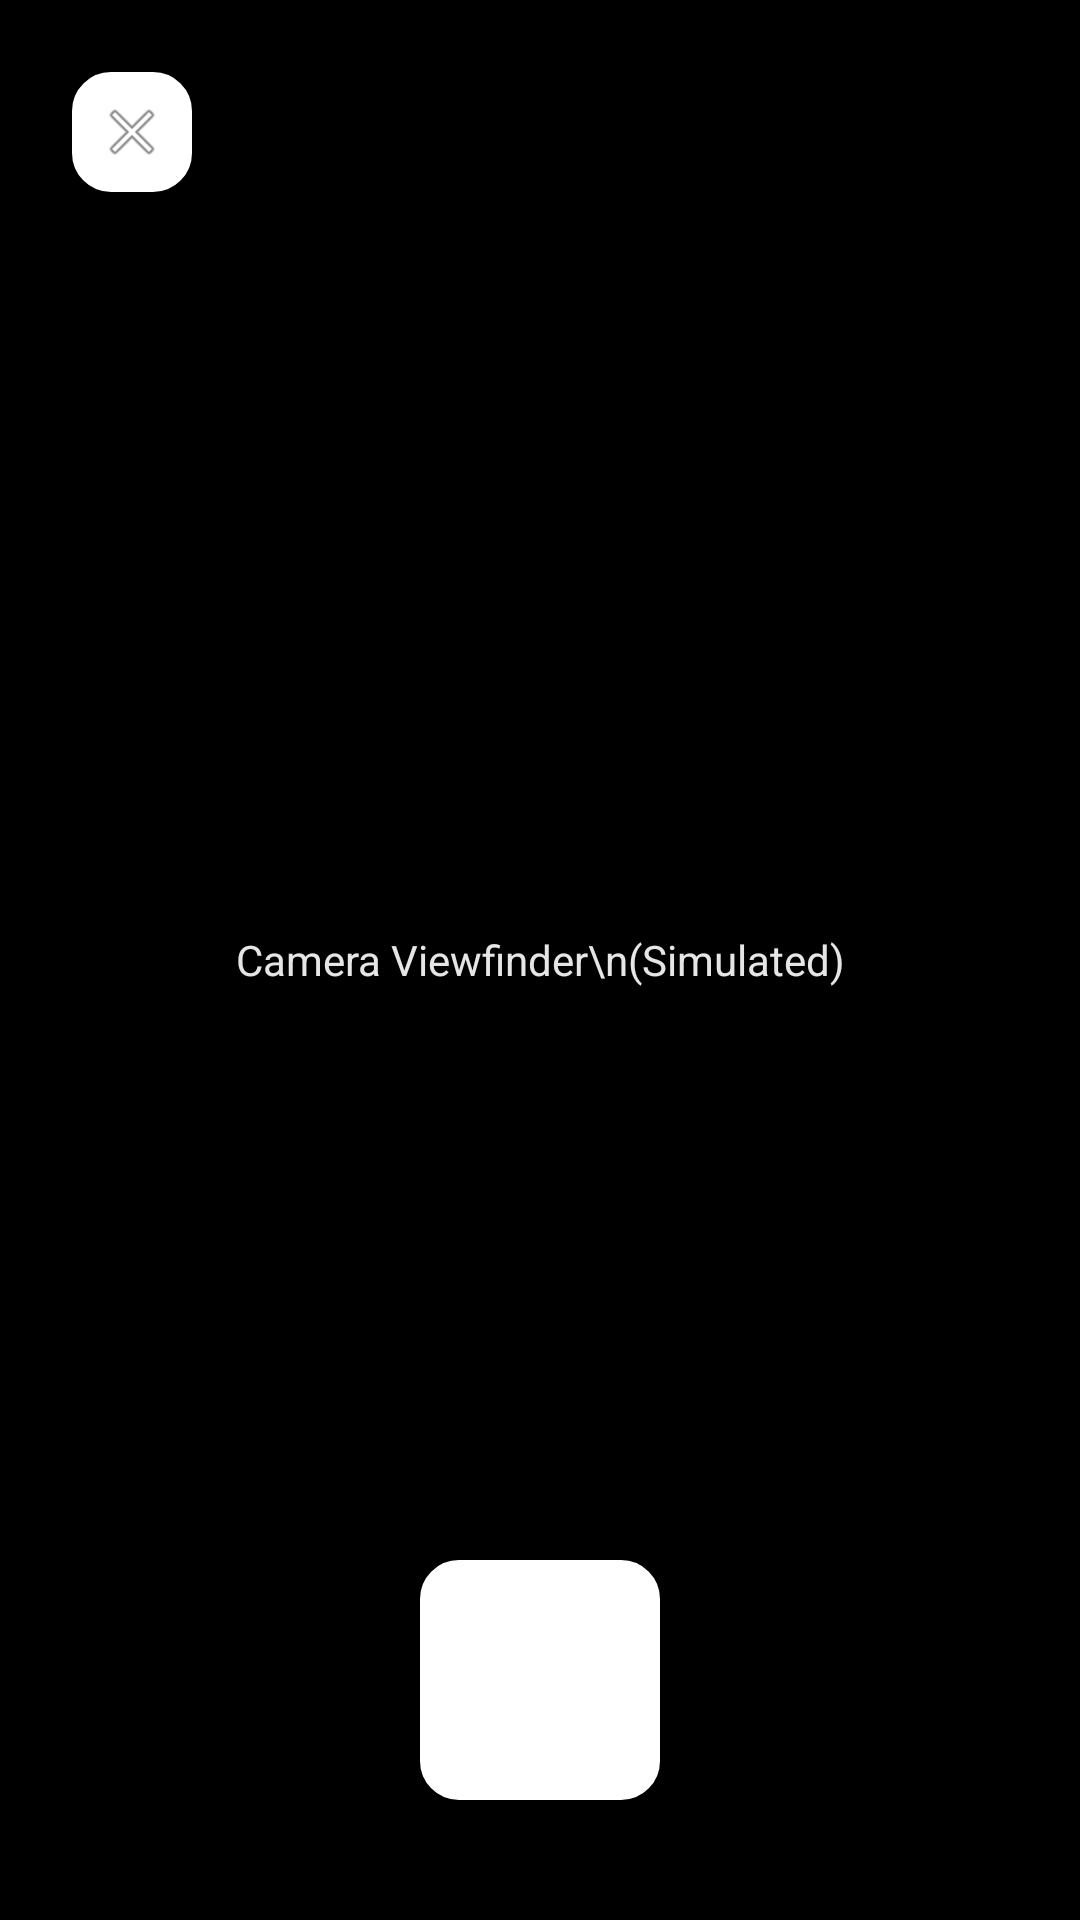

Point at icon controls on the screen. Image size 1080x1920, points as point (x, y).
close clear cancel: point (132, 132)
